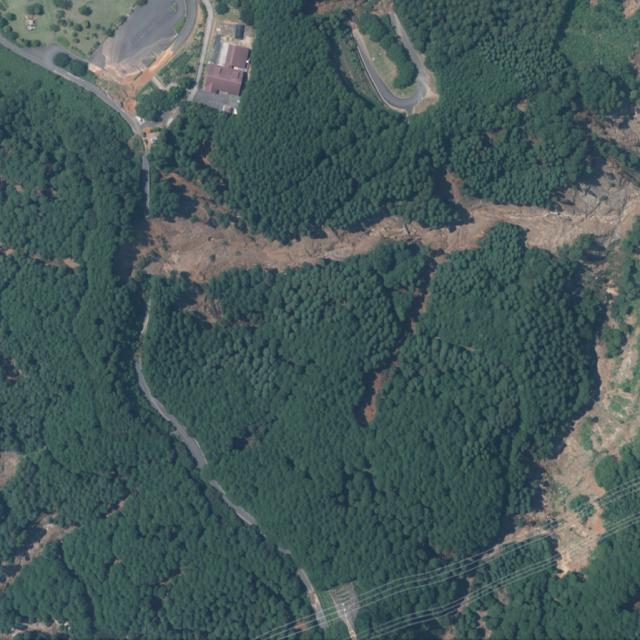landslide: (130, 107, 640, 578), (0, 452, 19, 490)
